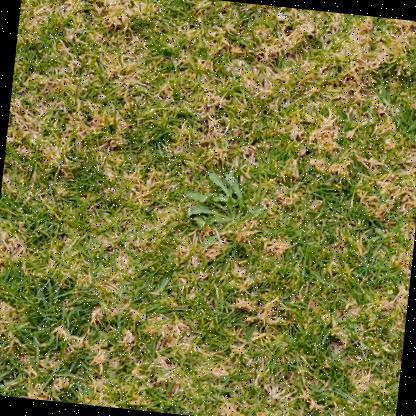Weeds: (182, 167, 268, 251)
